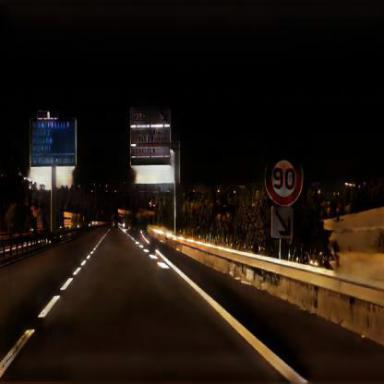Speed_limit_90: (265, 151, 305, 206)
